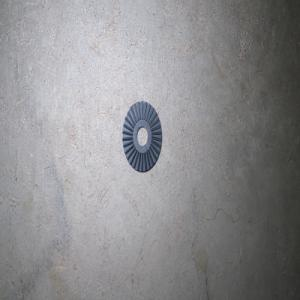Washer: (122, 101, 162, 172)
